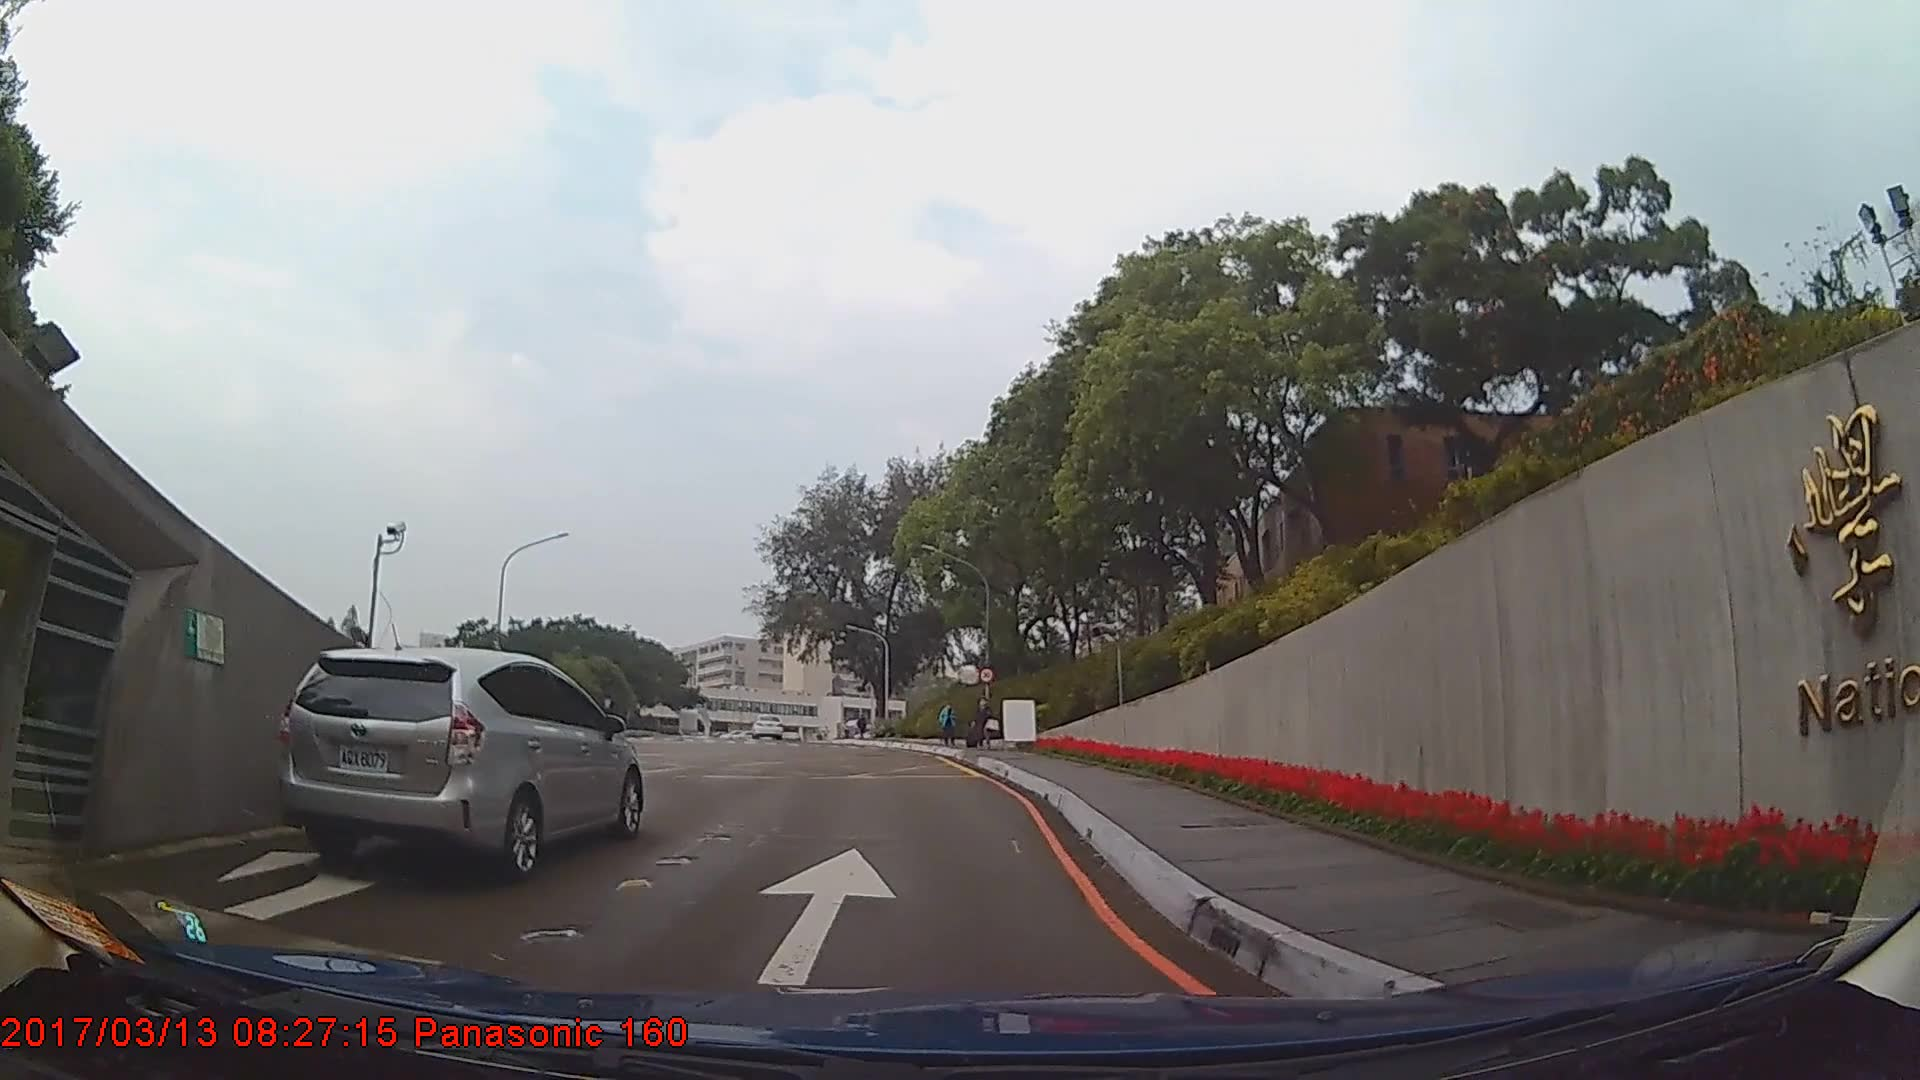pedestrian: (966, 695, 1001, 749), (938, 704, 959, 750)
vehicle: (274, 646, 644, 887), (747, 710, 782, 738)
